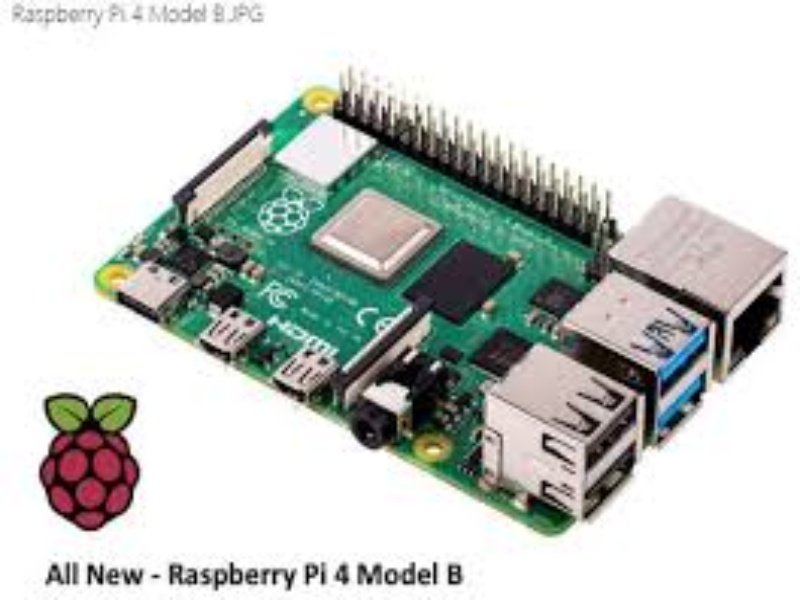raspberrypi: (89, 67, 798, 507)
